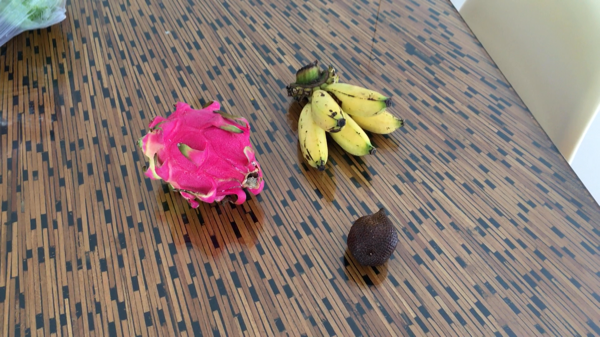banana: (290, 61, 403, 172)
dragon fruit: (139, 98, 265, 210)
snake fruit: (347, 207, 401, 267)
